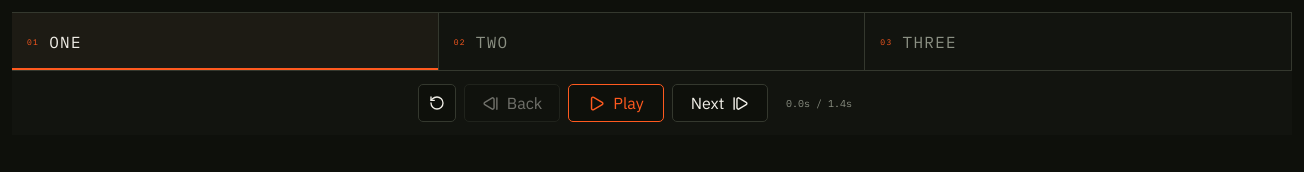
Test: ScenePlayer › toggles play and pause state
Click the button "Play" at (616, 103), box x1=568 y1=84 x2=664 y2=122
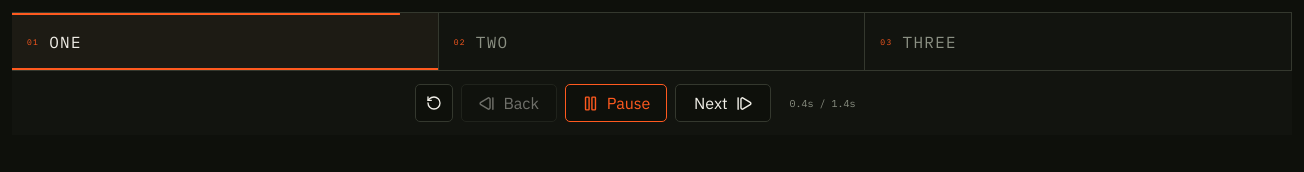
Check: the button "Pause" is shown, box x1=565 y1=84 x2=667 y2=122
